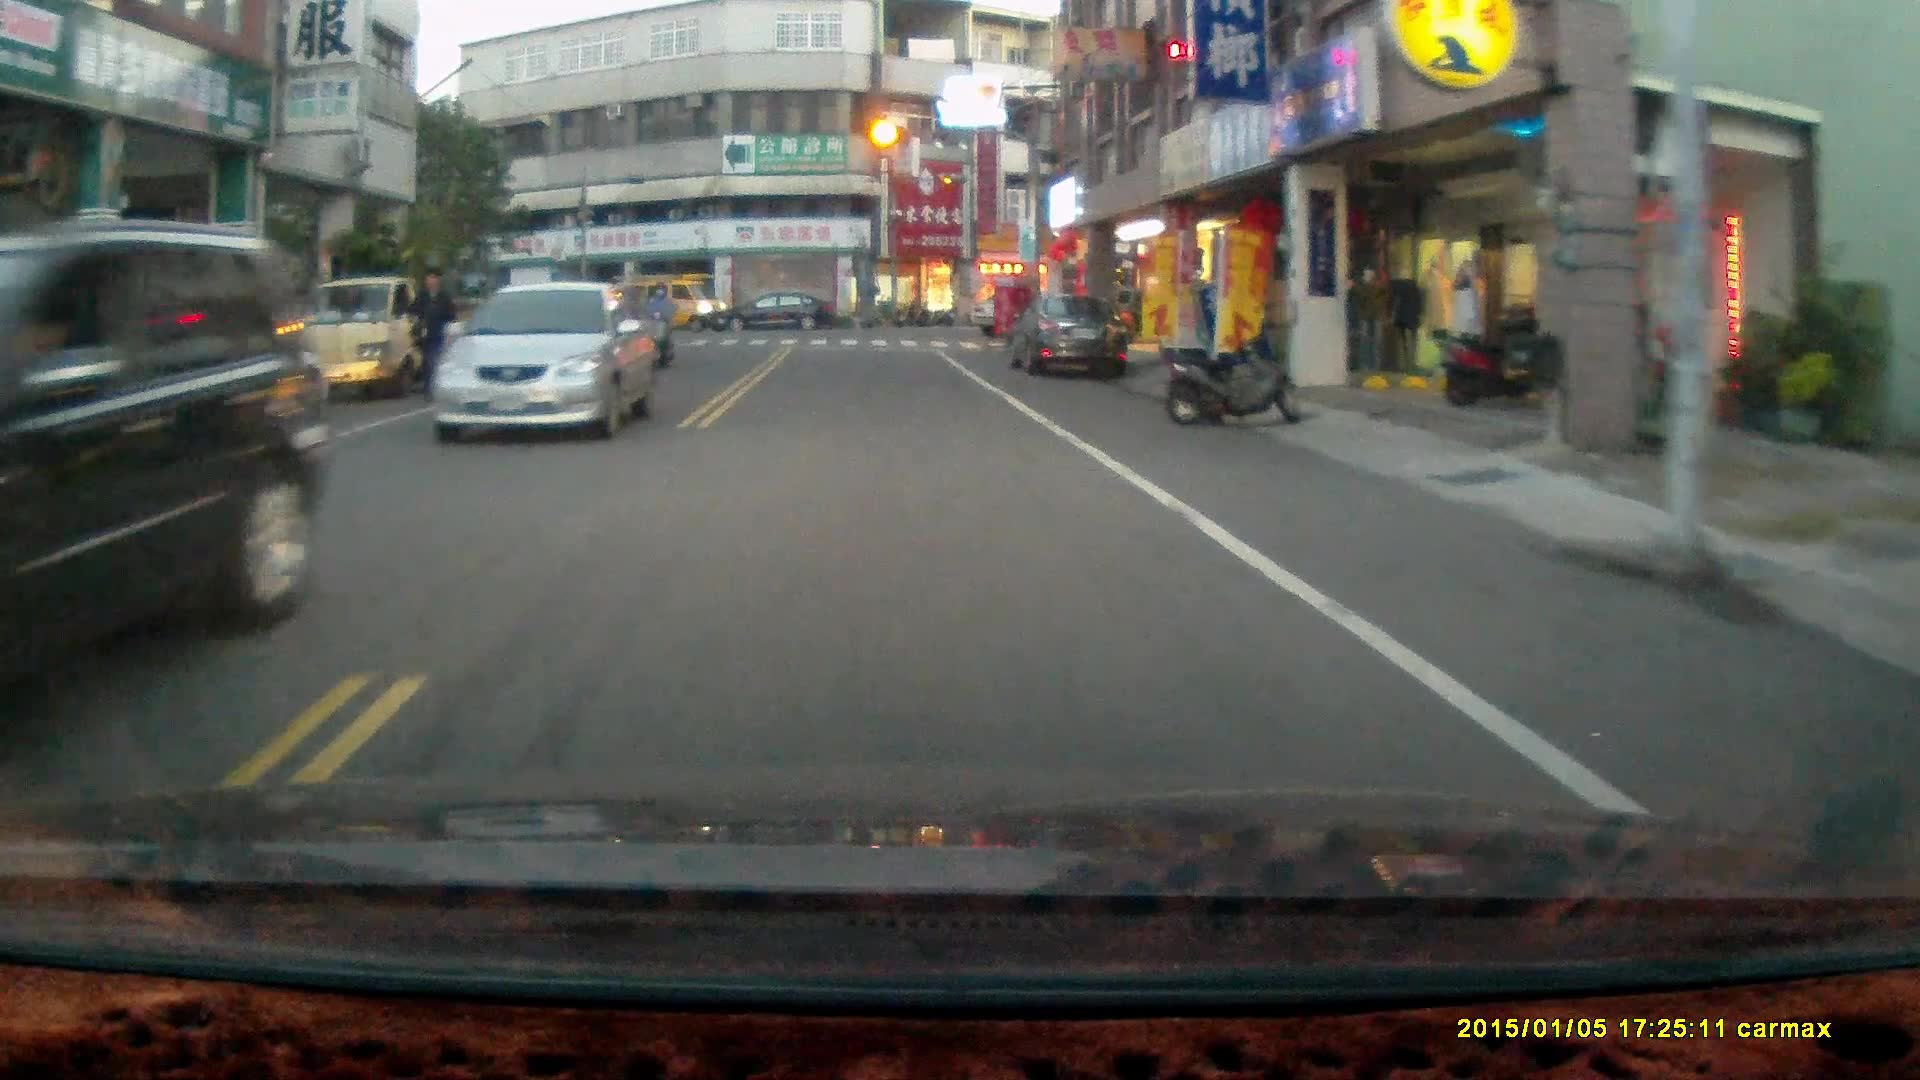pedestrian: (405, 262, 461, 404)
rider: (640, 281, 677, 374)
vehicle: (1, 236, 318, 714), (24, 301, 304, 454), (431, 281, 663, 444), (290, 276, 478, 402), (1005, 289, 1132, 384), (603, 275, 730, 336), (720, 291, 839, 336)
